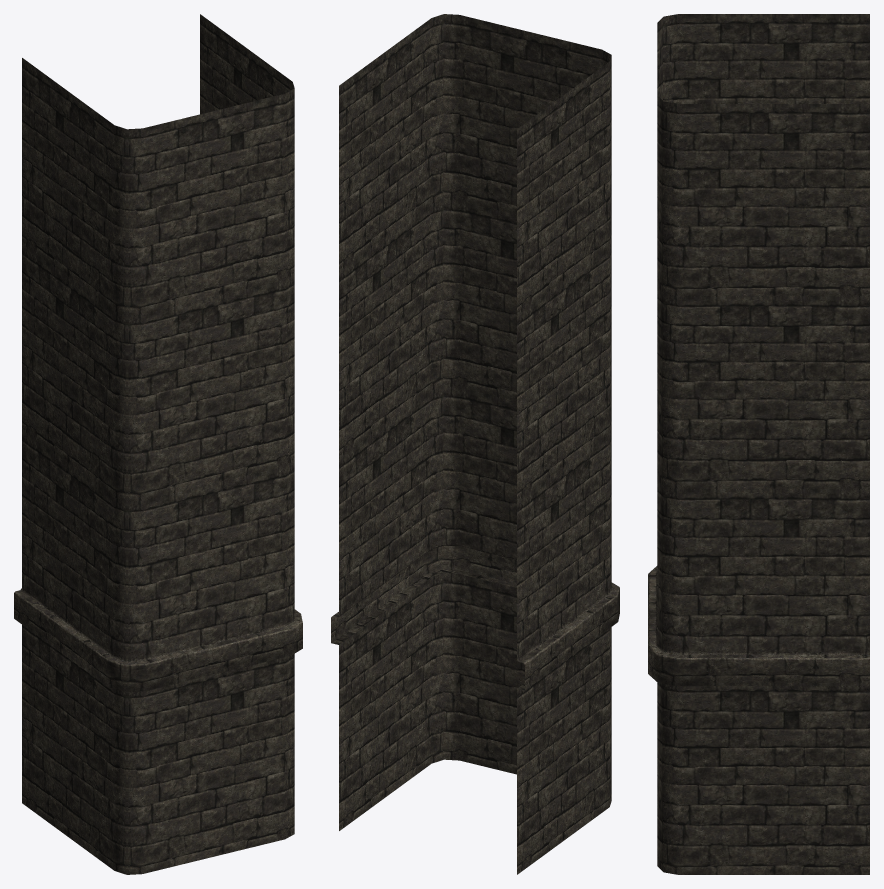
Rendered from wallBlockOS.fbx.
The picture shows the model from 3 angles, left to right: view 1: azimuth 30°, elevation 25°; view 2: azimuth 150°, elevation 25°; view 3: azimuth 270°, elevation 25°; orthographic projection. The views are drawn at different scales.
Visible parts, largest first — view 1: polySurface88; view 2: polySurface88; view 3: polySurface88.
Boxes of the visible parts, left/top/right/bottom form: polySurface88: left=14, top=14, right=302, bottom=874; polySurface88: left=331, top=14, right=619, bottom=874; polySurface88: left=648, top=14, right=869, bottom=874.
Size of the model in its own units: 2.18 by 8 by 2.09.
